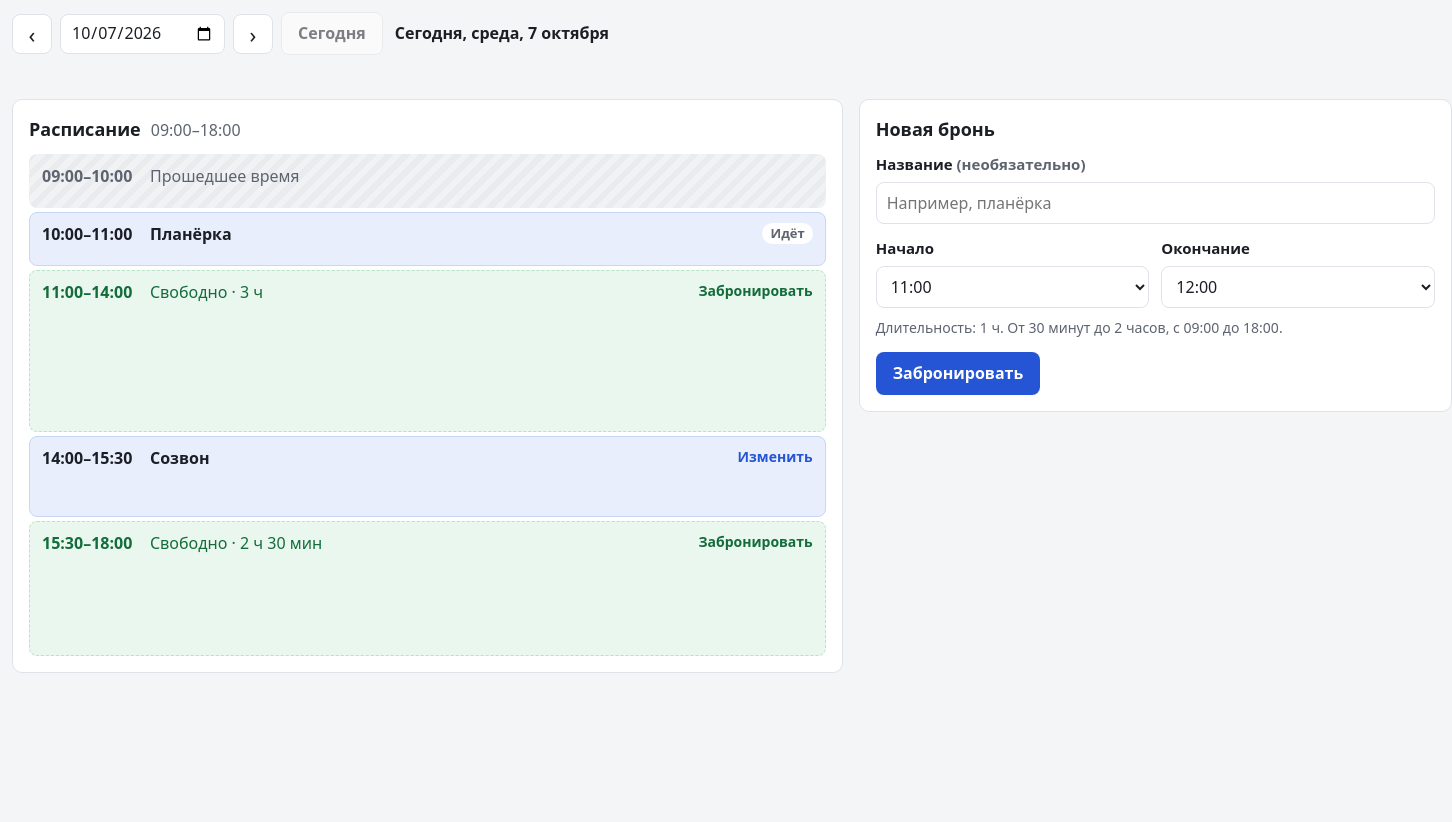
Scenario: BookingsPage › edits and then deletes a booking
Click the button with aria-label "Бронь 14:00–15:30 «Созвон». Изменить".
click(87, 458)  # box [29,436,826,517]
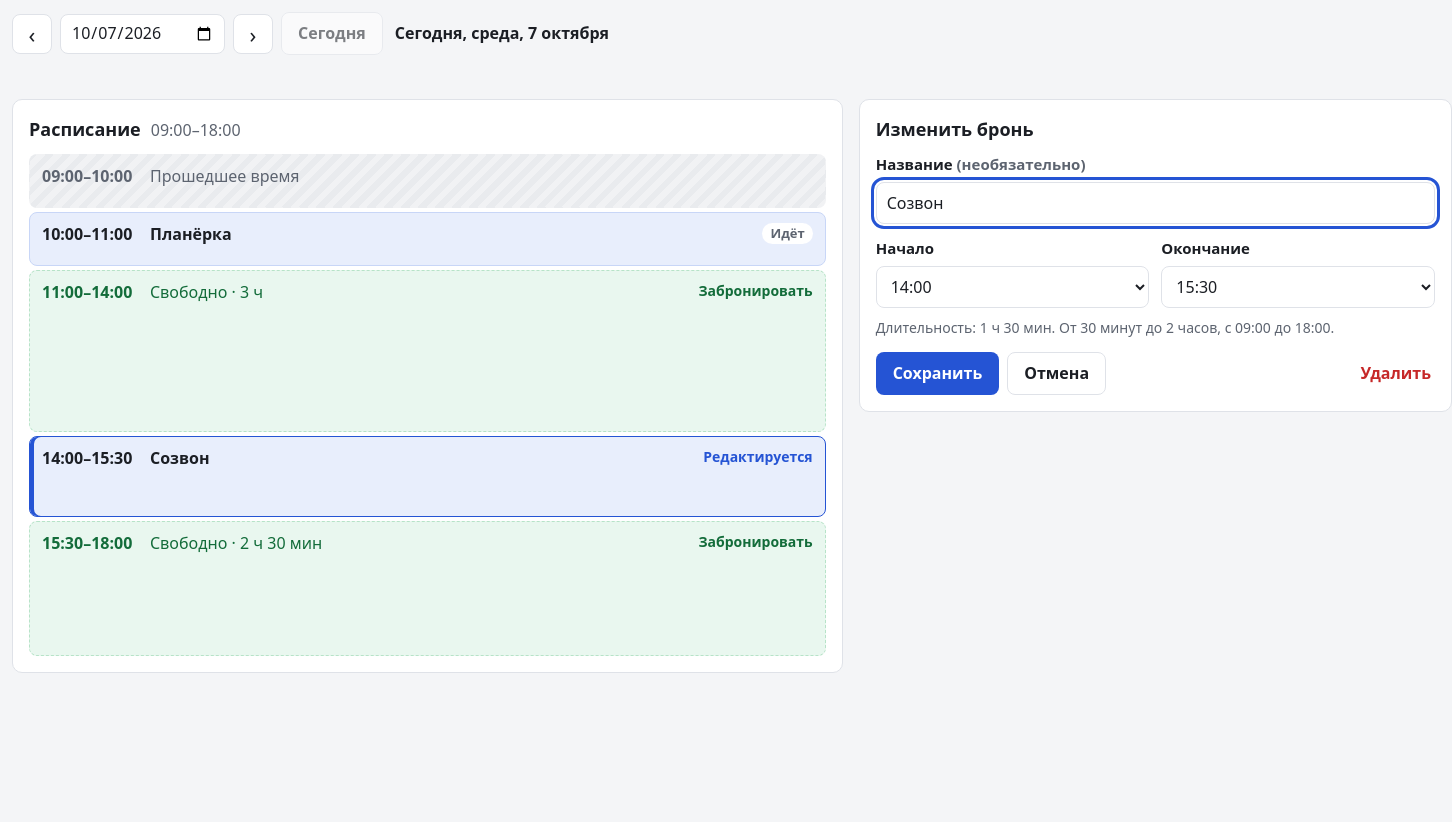
Now the heading "Изменить бронь" is shown, box [876,116,1034,142]
Select "15:00" in the dropdown labelled "Окончание" at (1298, 287), box [1161,266,1435,308]
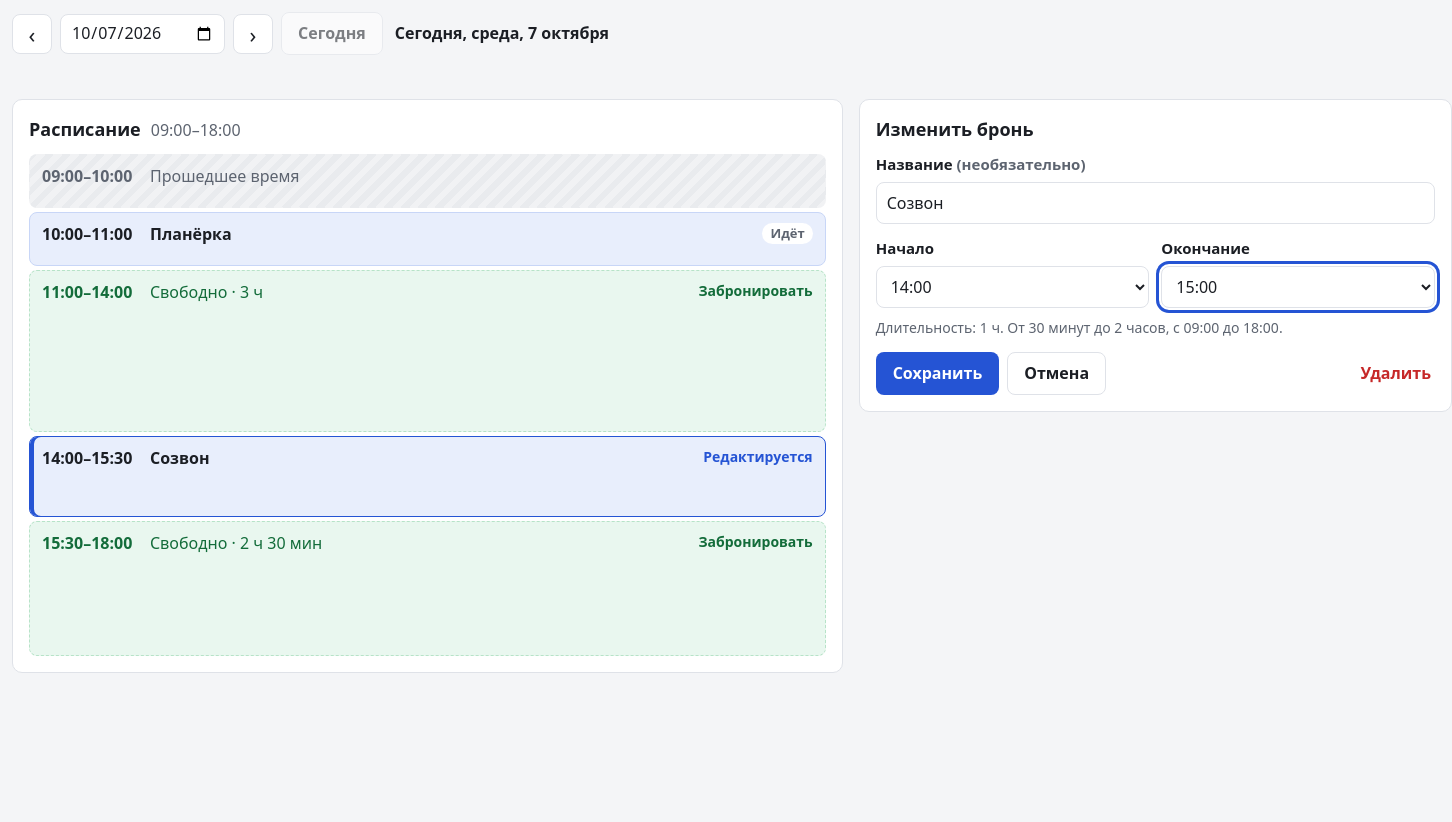
Click the button "Сохранить".
click(938, 374)  # box [876,352,999,395]
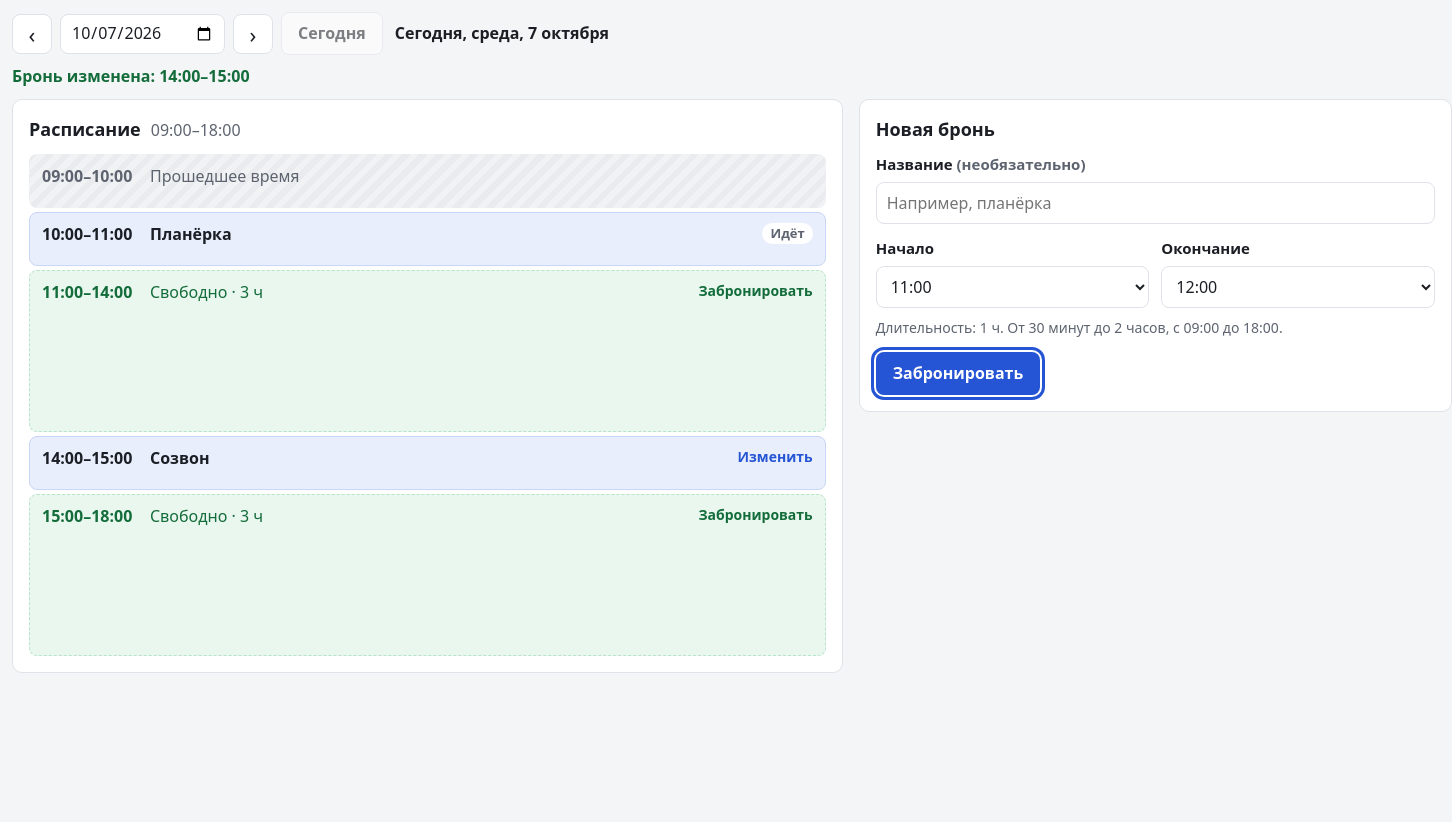
Now the text "Бронь изменена: 14:00–15:00" is shown, box [12,65,250,87]
Click the button with aria-label "Бронь 14:00–15:00 «Созвон». Изменить".
click(87, 458)  # box [29,436,826,490]
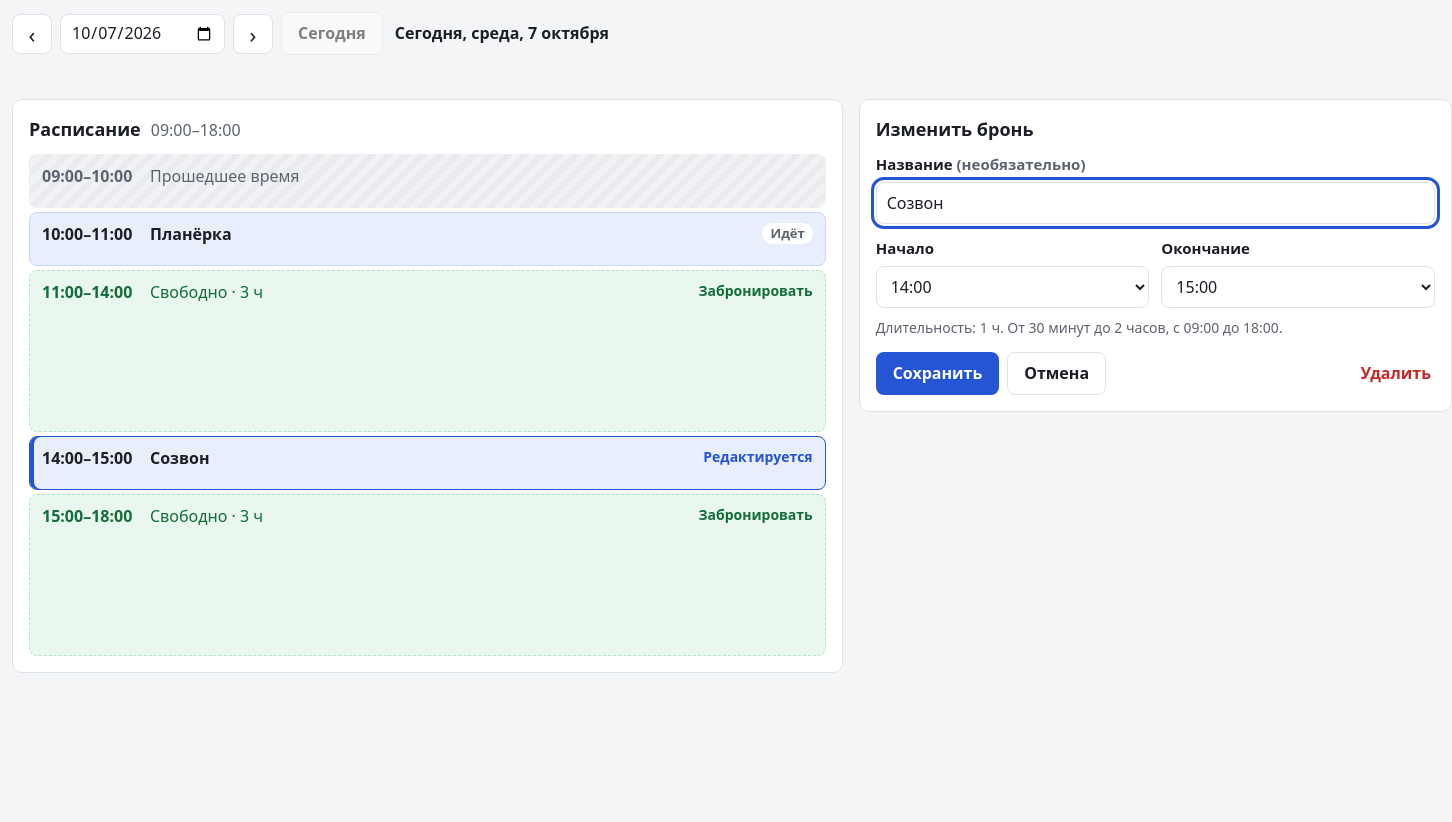
Click the button "Удалить".
click(1396, 374)  # box [1356,353,1435,394]
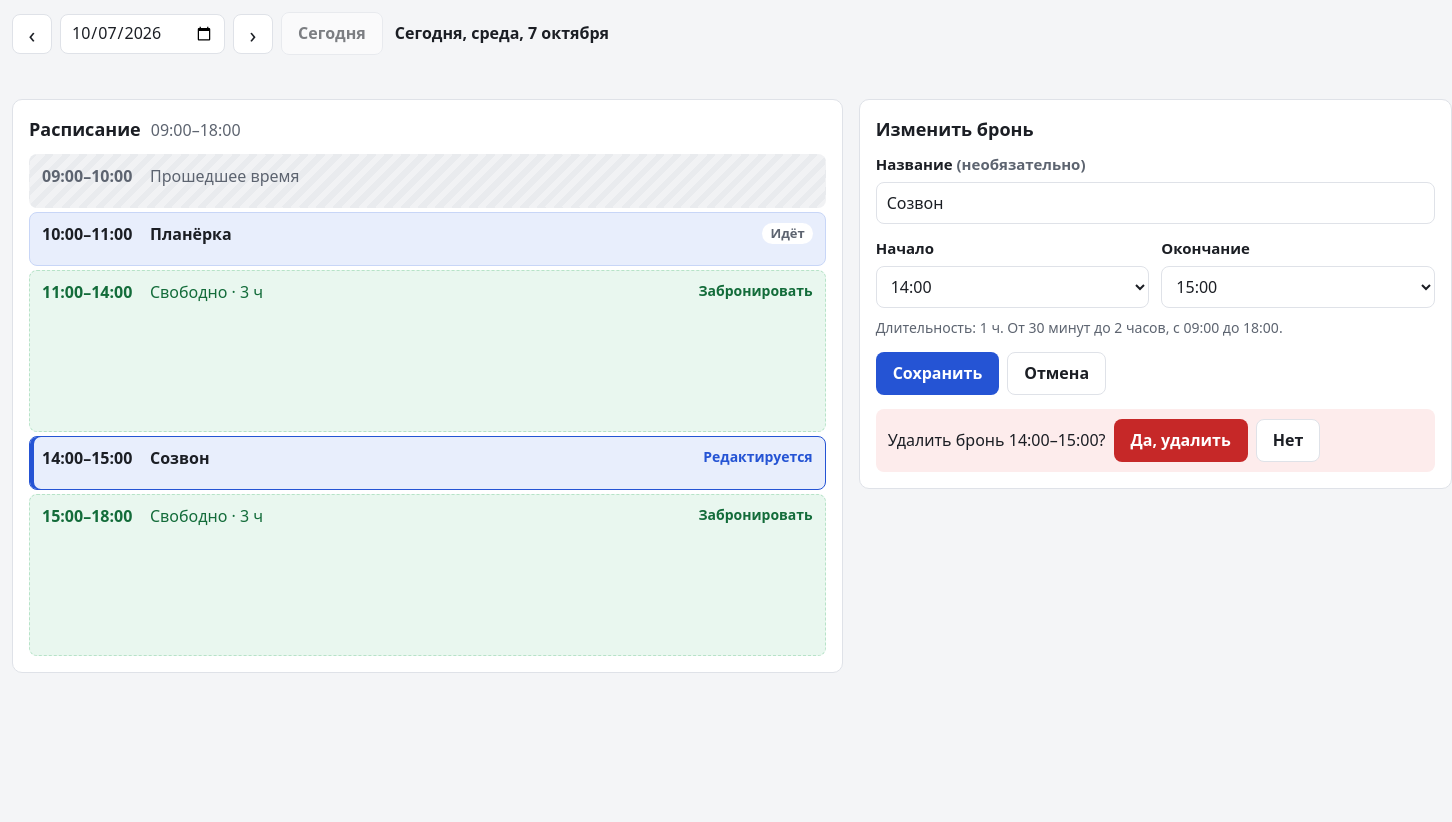
Click the button "Да, удалить".
click(1181, 441)  # box [1114,419,1248,462]
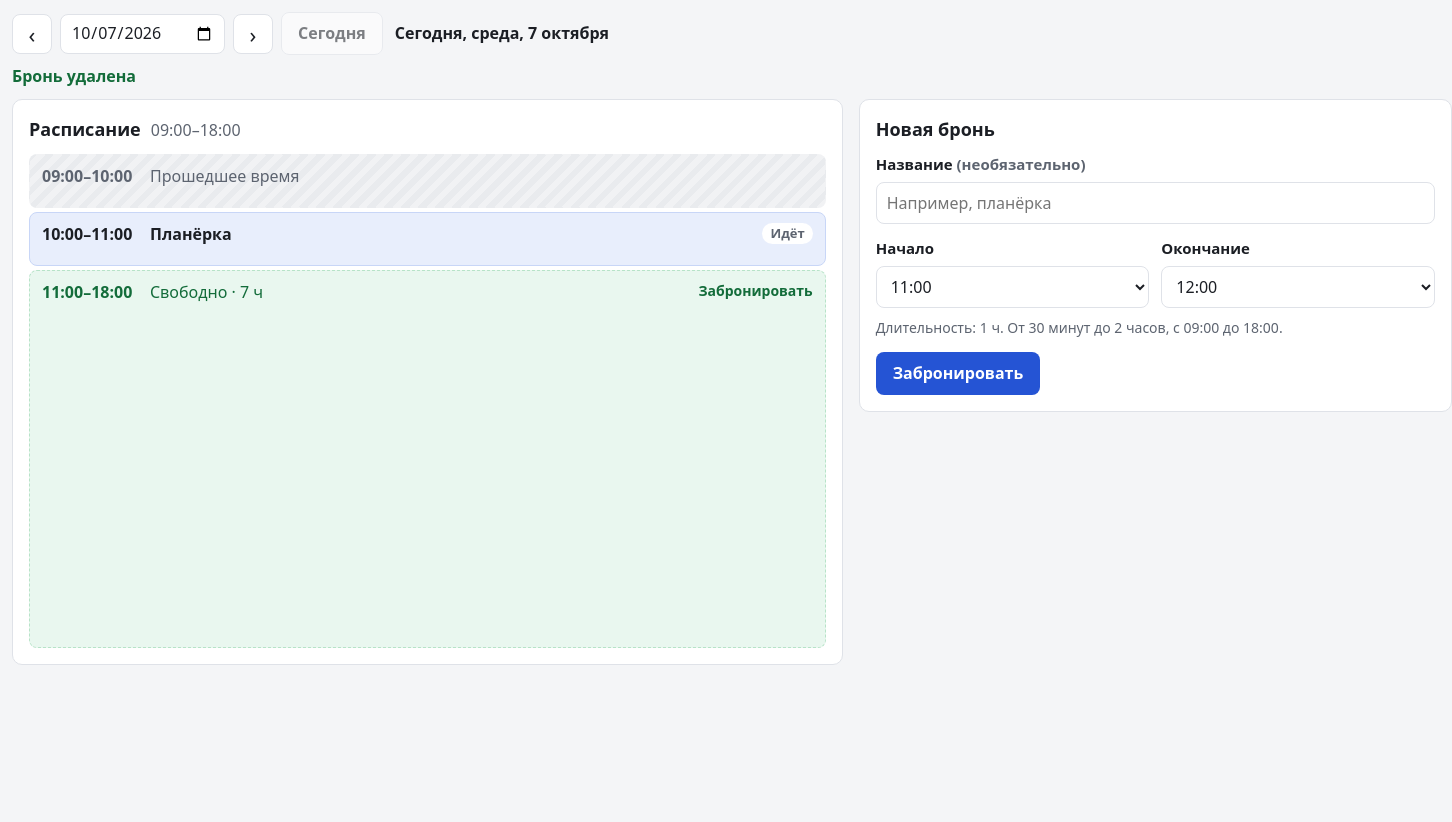
Now the text "Бронь удалена" is shown, box [12,65,136,87]
Now the button "Созвон" is gone
